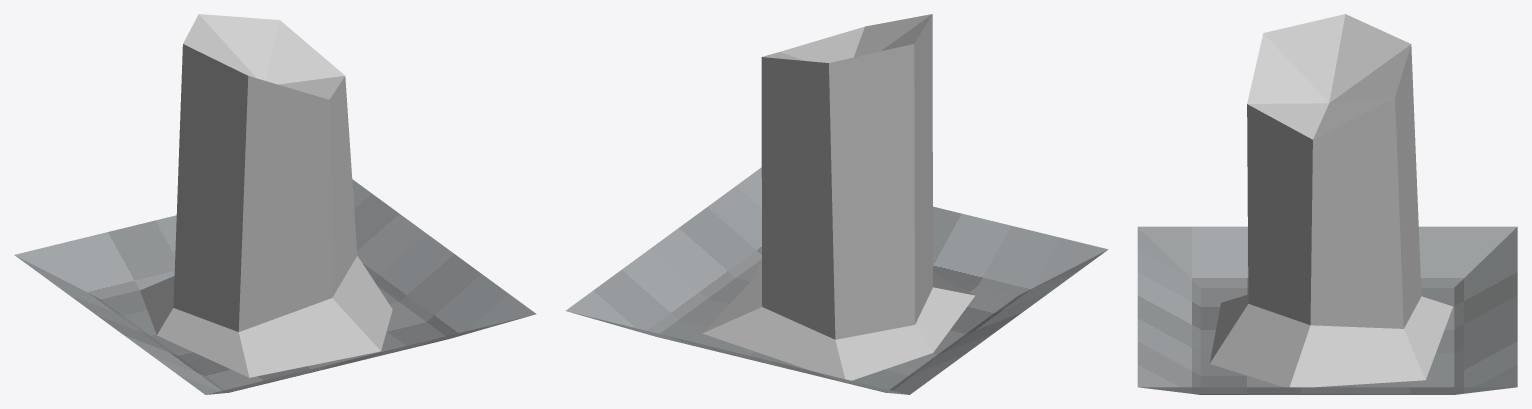
File: Mix_vela1.fbx
The picture shows the model from 3 angles, left to right: view 1: azimuth 30°, elevation 25°; view 2: azimuth 150°, elevation 25°; view 3: azimuth 270°, elevation 25°; orthographic projection. The views are drawn at different scales.
Visible parts, largest first — view 1: cylinder, plane; view 2: cylinder, plane; view 3: cylinder, plane.
Part boxes in pixels (left/top/right/bottom): cylinder: left=140, top=14, right=392, bottom=377; plane: left=14, top=179, right=536, bottom=394; cylinder: left=702, top=14, right=975, bottom=380; plane: left=565, top=167, right=1108, bottom=394; cylinder: left=1209, top=14, right=1452, bottom=387; plane: left=1137, top=226, right=1517, bottom=394.
Size of the model in its own units: 18.75 by 15.62 by 18.75.
